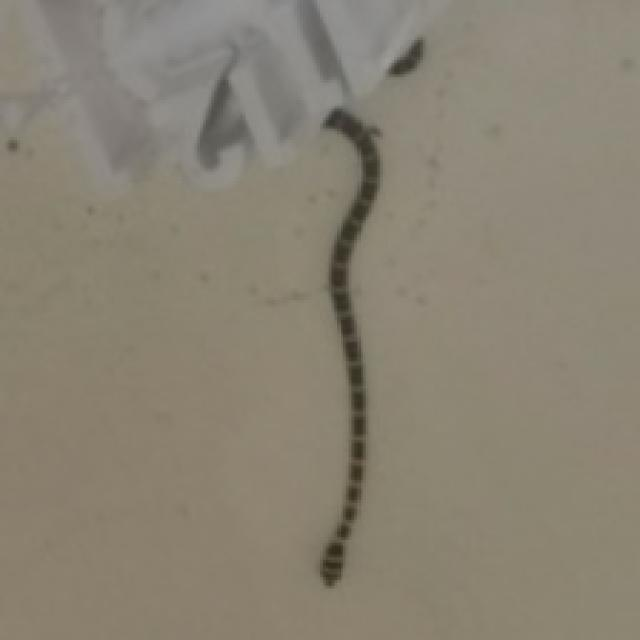paradise tree snake: (320, 109, 377, 583)
